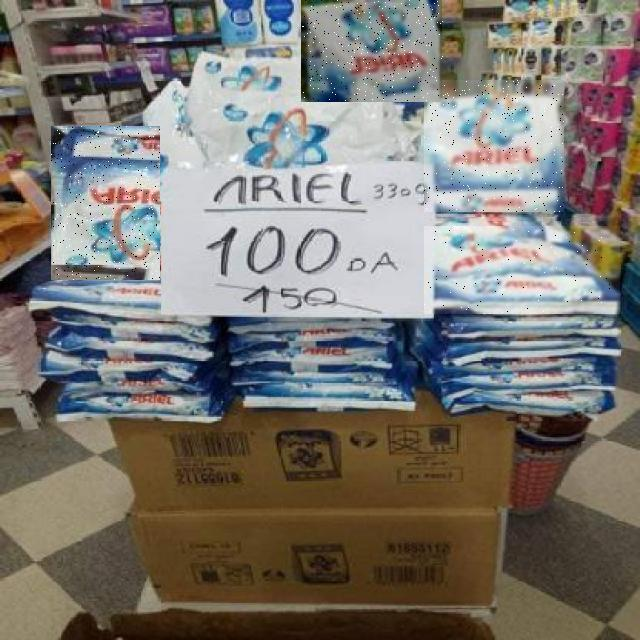Detergent: (424, 80, 564, 212), (425, 226, 621, 314), (51, 126, 160, 280), (302, 0, 444, 102)
